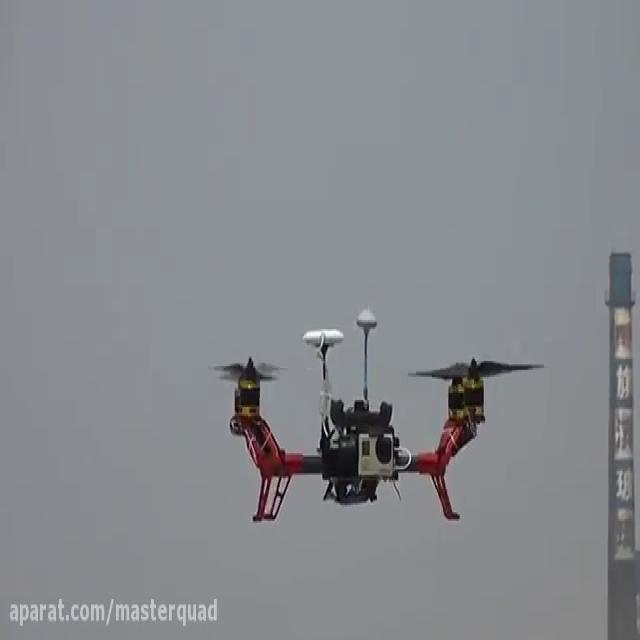drone: (203, 306, 549, 526)
